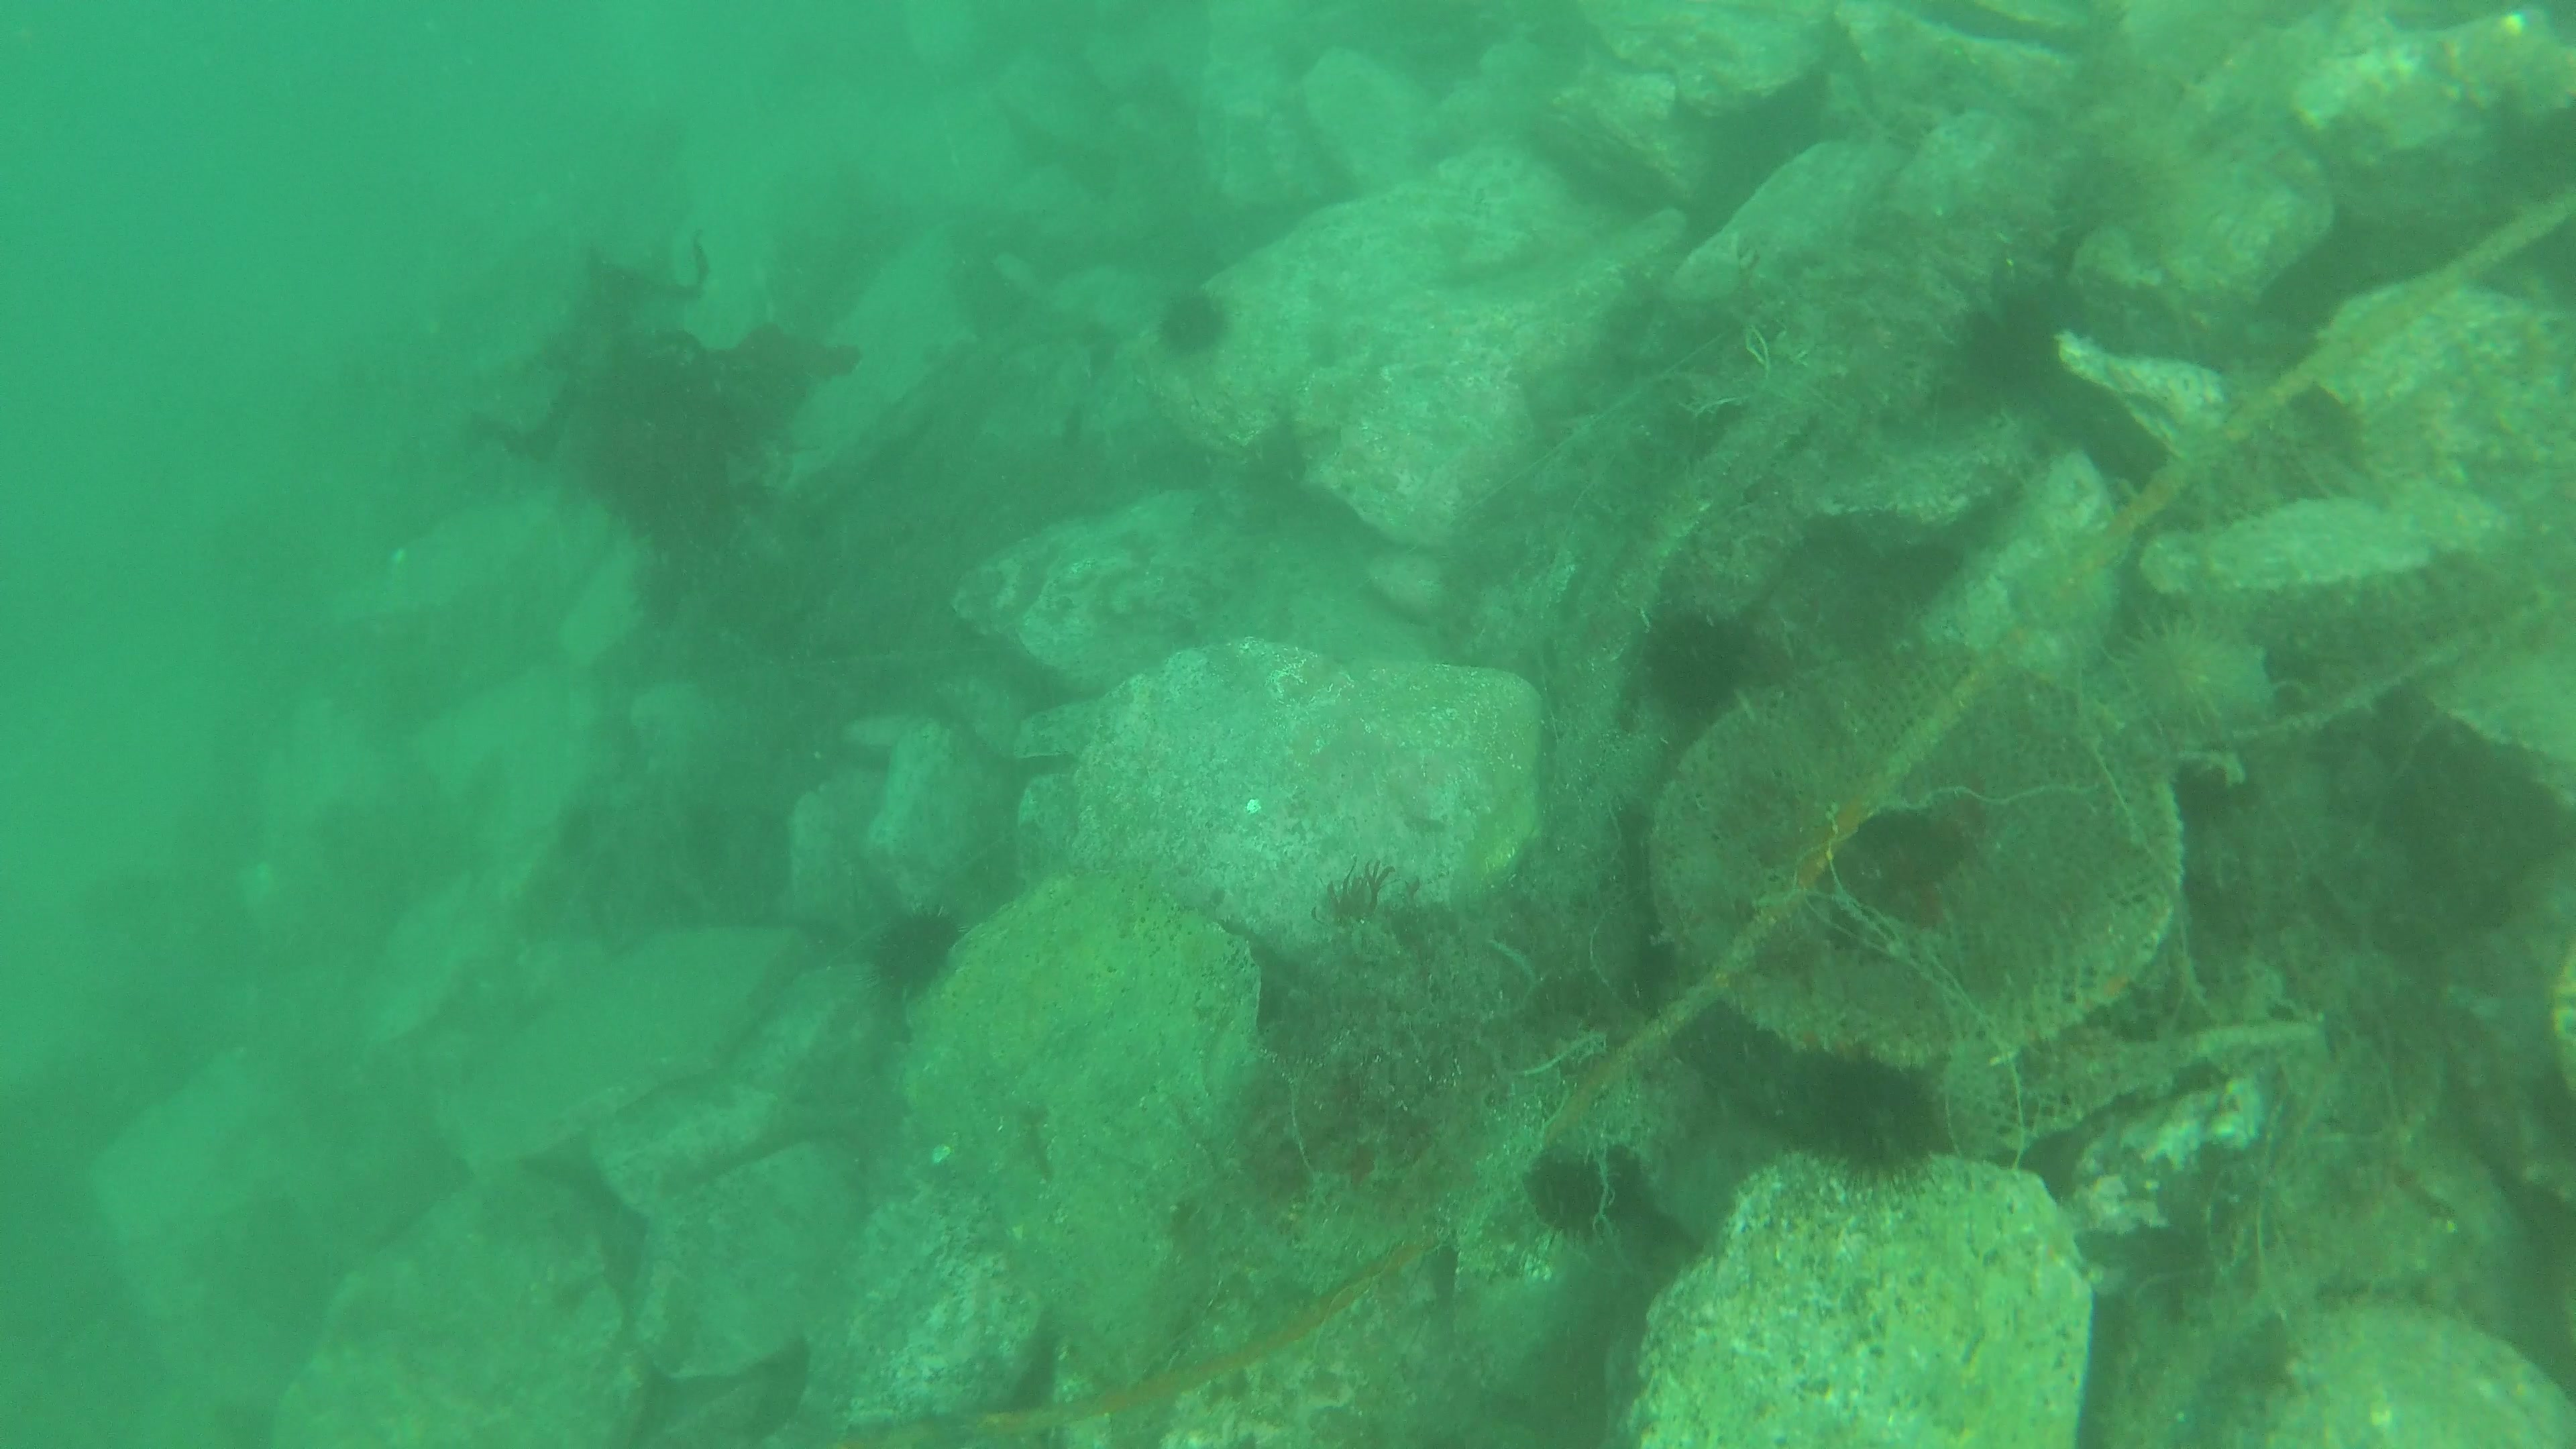echinus: (1799, 1031, 1927, 1185), (1534, 1120, 1658, 1233), (1642, 602, 1750, 720), (865, 901, 971, 996), (1152, 278, 1231, 366)
